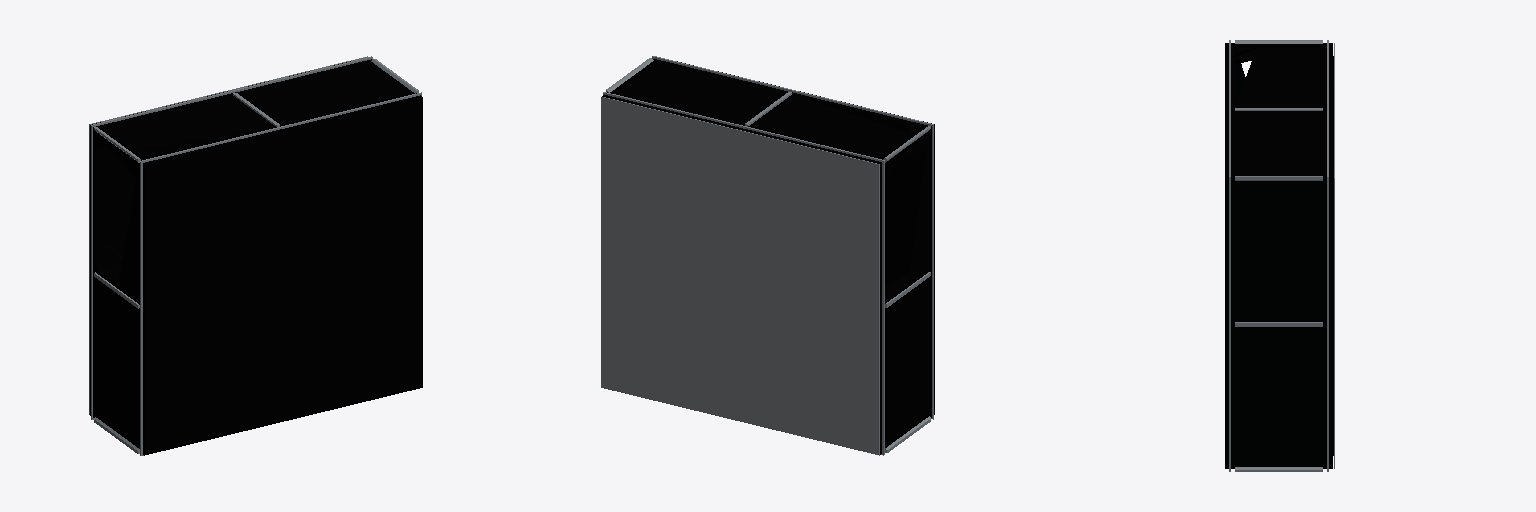
3 views of the same model, side by side, from view 1: azimuth 30°, elevation 25°; view 2: azimuth 150°, elevation 25°; view 3: azimuth 270°, elevation 25° (orthographic).
Parts seen in each view (by area): view 1: group_0_[number redacted], group_0_[number redacted], group_0_[number redacted]; view 2: group_0_[number redacted], group_0_[number redacted], group_0_[number redacted]; view 3: group_0_[number redacted], group_0_[number redacted], group_0_[number redacted].
Part boxes in pixels (left/top/right/bottom): group_0_[number redacted]: left=90, top=59, right=422, bottom=455; group_0_[number redacted]: left=89, top=56, right=421, bottom=455; group_0_[number redacted]: left=94, top=59, right=418, bottom=453; group_0_[number redacted]: left=601, top=56, right=933, bottom=455; group_0_[number redacted]: left=602, top=59, right=934, bottom=454; group_0_[number redacted]: left=606, top=58, right=930, bottom=452; group_0_[number redacted]: left=1225, top=43, right=1333, bottom=468; group_0_[number redacted]: left=1229, top=40, right=1334, bottom=471; group_0_[number redacted]: left=1235, top=40, right=1322, bottom=471.
Bounding box in the file's own units: 162 × 162 × 55.